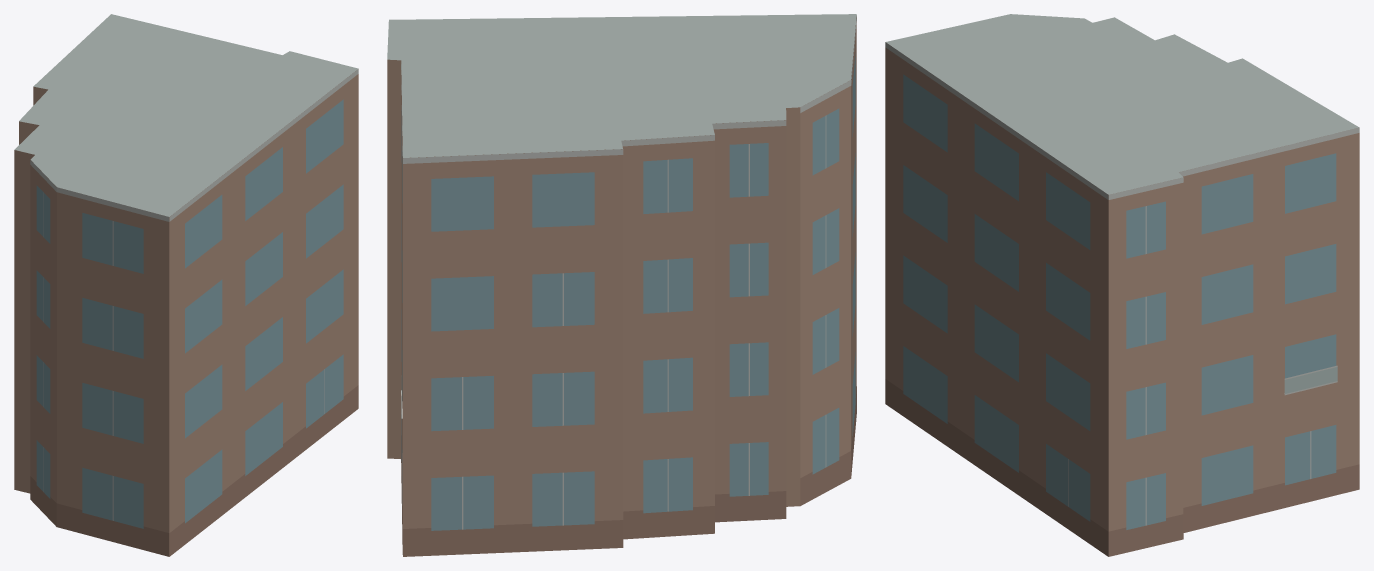
File: survey-upis-32486259.glb
3 renders of one model, left to right at view 1: azimuth 30°, elevation 25°; view 2: azimuth 150°, elevation 25°; view 3: azimuth 270°, elevation 25°, orthographic. The views are drawn at different scales.
Parts seen in each view (by area): view 1: survey-upis-32486259.tmp; view 2: survey-upis-32486259.tmp; view 3: survey-upis-32486259.tmp.
Boxes of the visible parts, box(x1,y1,x2,y2) form: survey-upis-32486259.tmp: box(14, 14, 358, 556); survey-upis-32486259.tmp: box(387, 14, 856, 556); survey-upis-32486259.tmp: box(885, 14, 1359, 556).
Size of the model in its own units: 17.68 by 16.5 by 19.59.
